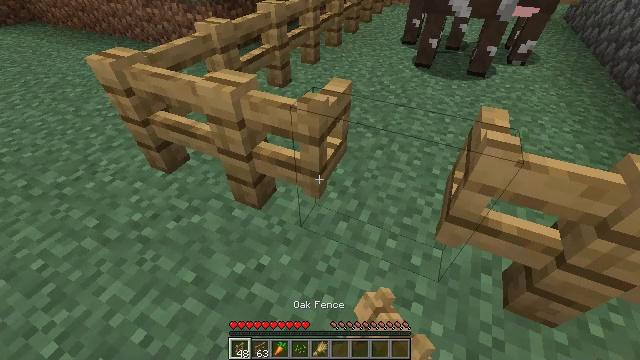cow: (411, 0, 518, 78), (451, 2, 559, 66)
